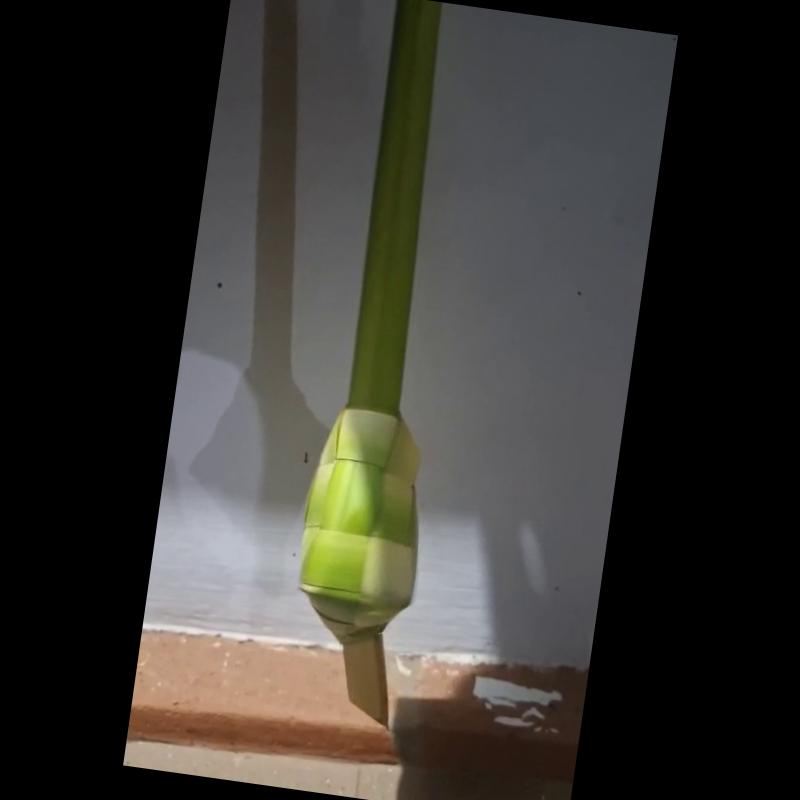Tipat Nasi: (292, 404, 420, 727)
